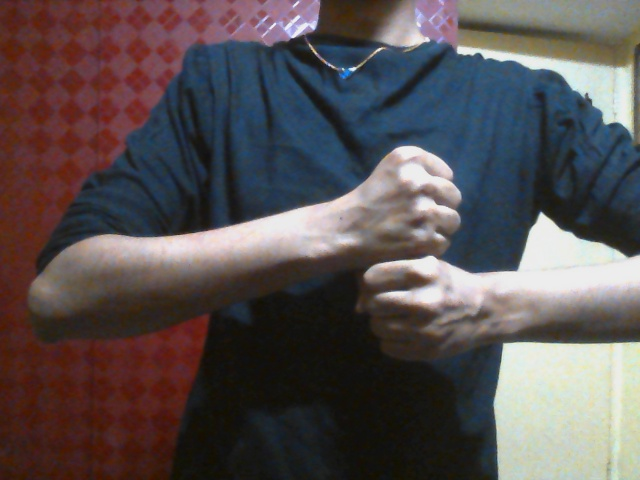G: (354, 141, 492, 367)
